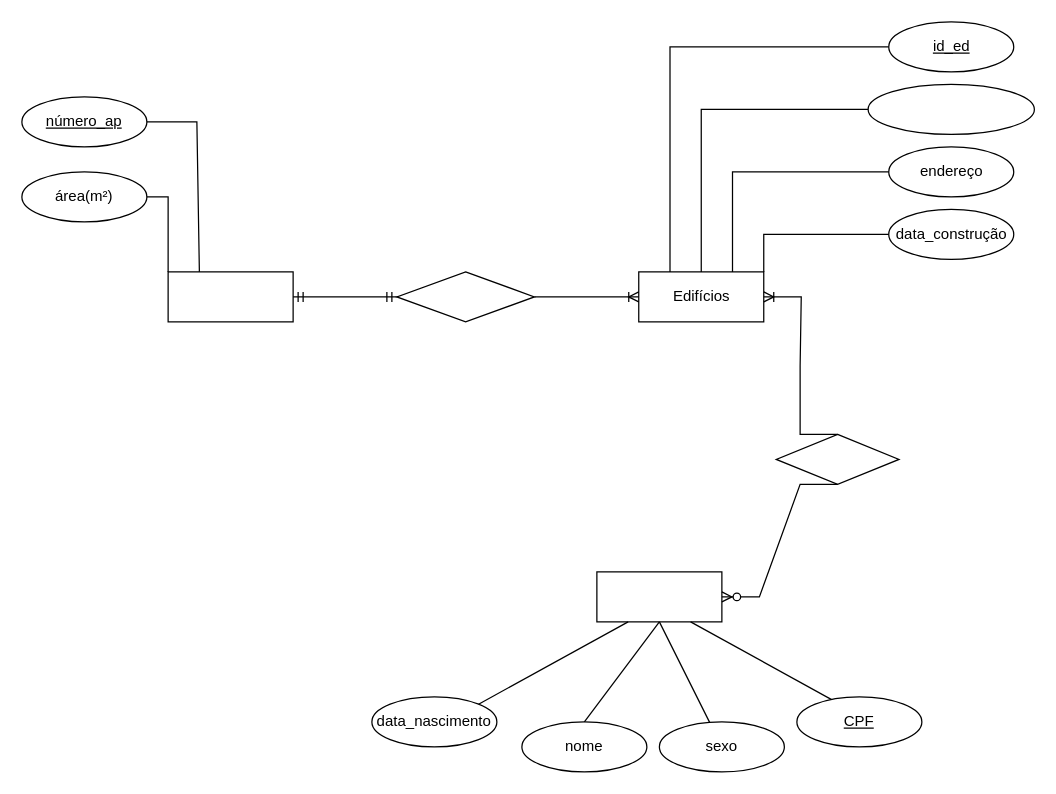
This 1056x794 diagram has some shape labels left out. Here are the shapes that lost their labels. From the top down, the centre of each, then its label:
At (950,108): "data__ultima_ vistoria".
At (230,296): "apartamentos".
At (465,296): "TEM".
At (837,458): "POSSUI".
At (659,596): "pessoas".
